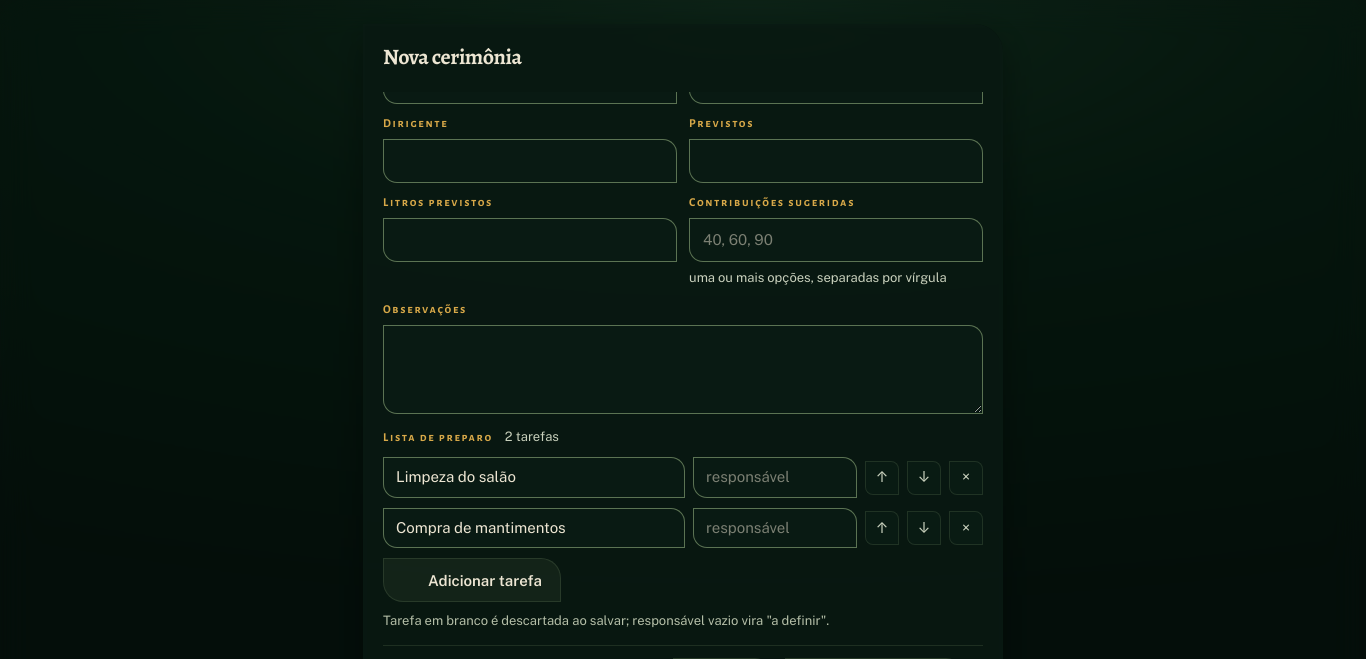
FormularioDeTrabalho: lista de preparo › Adicionar tarefa — acrescenta uma tarefa em branco no fim e o contador sobe
(page scrolled)
Click the button "Adicionar tarefa" at (472, 580), box [383,558,561,602]
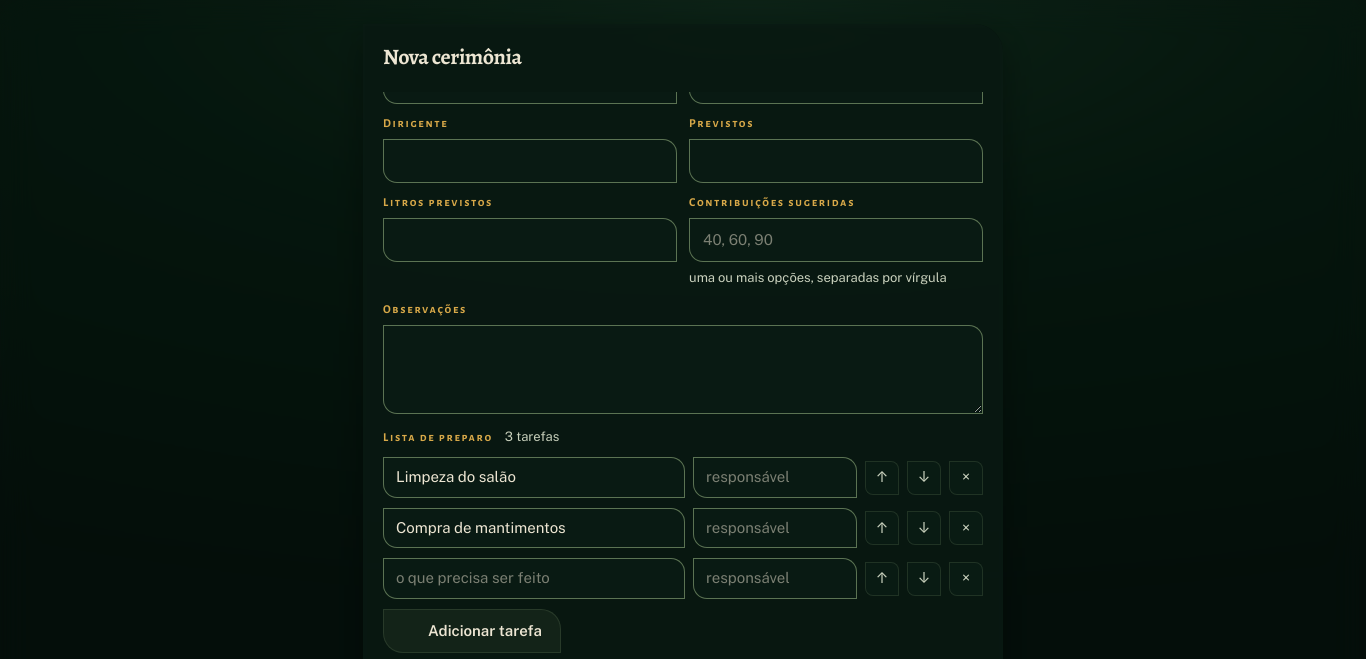
Check: the text "3 tarefas" is shown, box [505,428,559,447]
